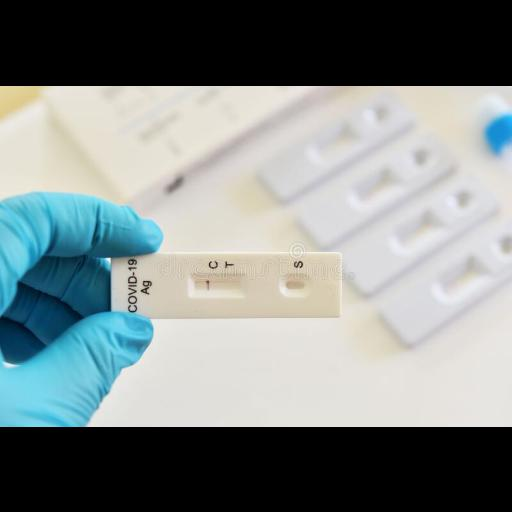Neg: (112, 251, 342, 317)
